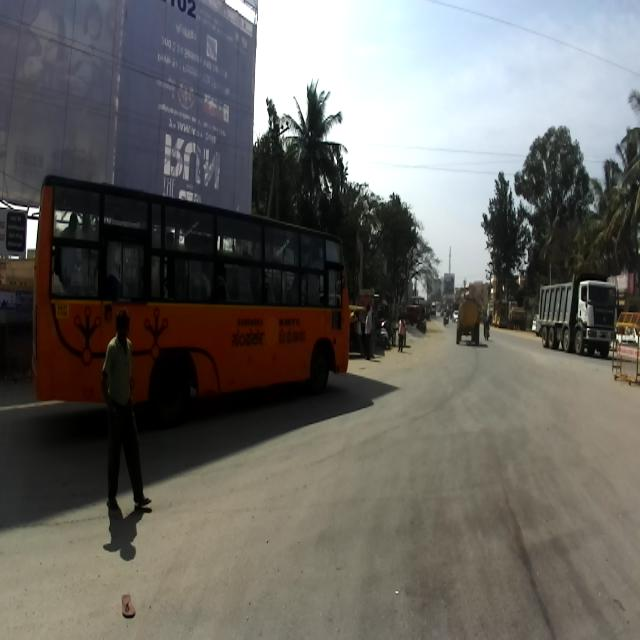bus ahead at: (29, 176, 352, 410)
person ahead at: (92, 303, 151, 523)
